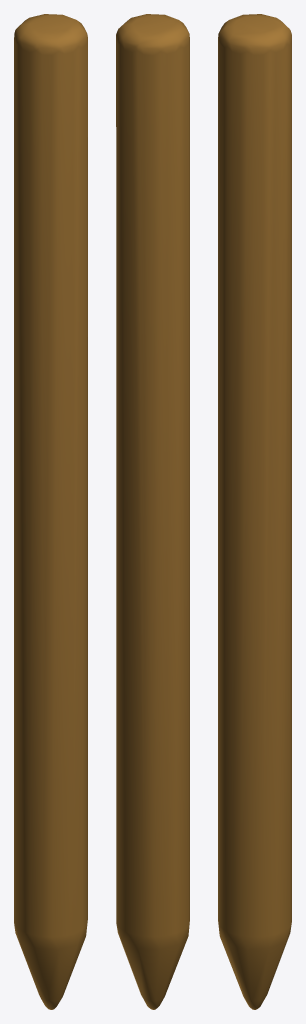
File: KebabTowerStick.glb
The picture shows the model from 3 angles, left to right: view 1: azimuth 30°, elevation 25°; view 2: azimuth 210°, elevation 25°; view 3: azimuth 330°, elevation 25°; orthographic projection.
Parts seen in each view (by area): view 1: geometry_0; view 2: geometry_0; view 3: geometry_0.
Boxes of the visible parts, left/top/right/bottom form: geometry_0: left=14, top=14, right=87, bottom=1009; geometry_0: left=116, top=14, right=189, bottom=1009; geometry_0: left=218, top=14, right=291, bottom=1009.
Size of the model in its own units: 6.84 by 99.95 by 6.74.
1 material, 1 textured.
